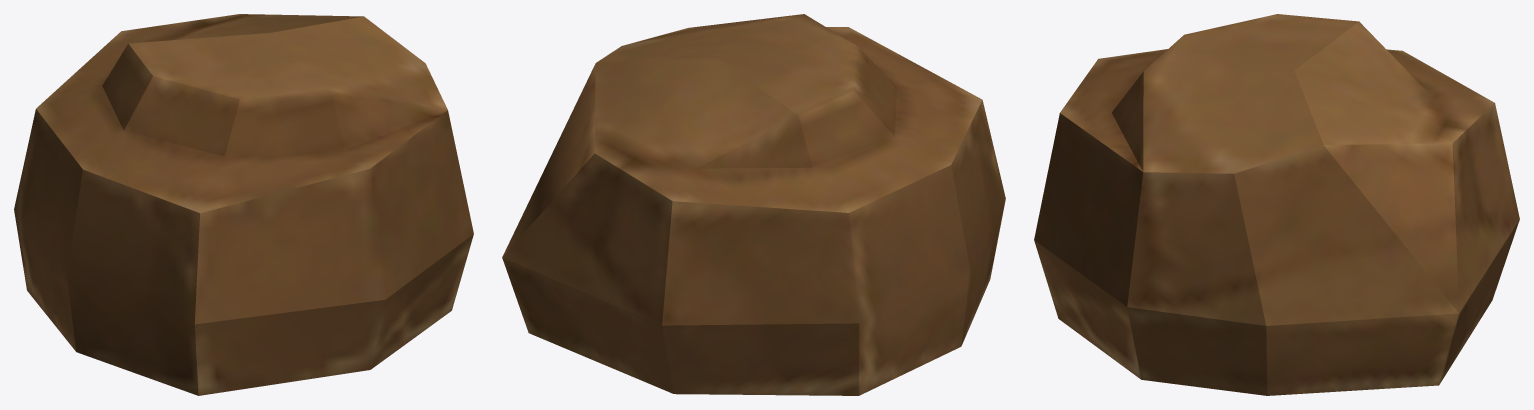
Rendered from shakian_object_dimension_rock02_03.FBX.
3 renders of one model, left to right at view 1: azimuth 30°, elevation 25°; view 2: azimuth 150°, elevation 25°; view 3: azimuth 270°, elevation 25°, orthographic. The views are drawn at different scales.
Parts seen in each view (by area): view 1: shakian_object_dimension_rock02_03; view 2: shakian_object_dimension_rock02_03; view 3: shakian_object_dimension_rock02_03.
Part boxes in pixels (x1=…): shakian_object_dimension_rock02_03: x1=14, y1=14, x2=473, y2=395; shakian_object_dimension_rock02_03: x1=502, y1=14, x2=1005, y2=395; shakian_object_dimension_rock02_03: x1=1034, y1=14, x2=1519, y2=395.
Size of the model in its own units: 1.28 by 0.9527 by 1.36.
